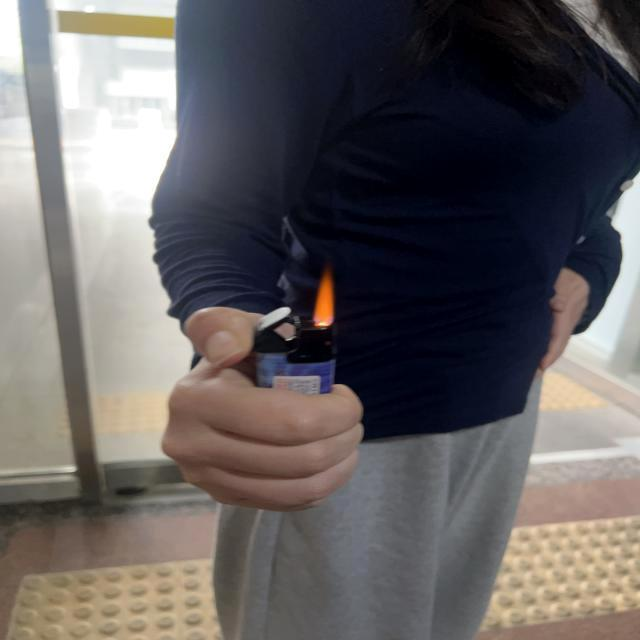fire: (310, 266, 340, 328)
